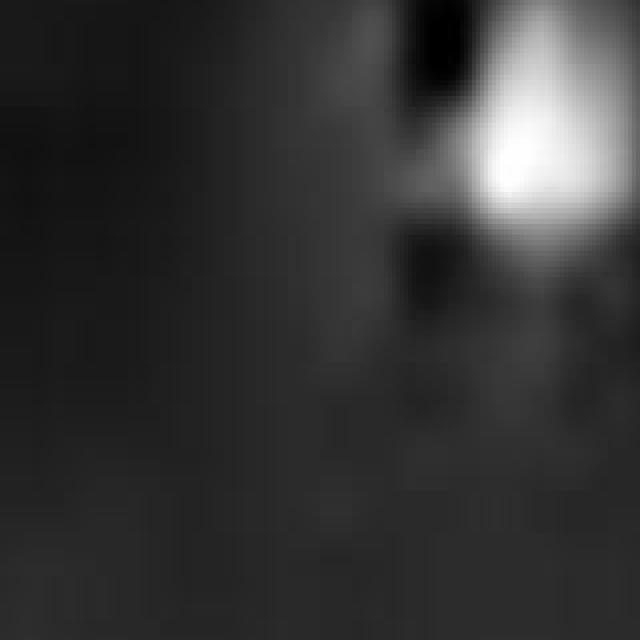person: (433, 1, 640, 412)
